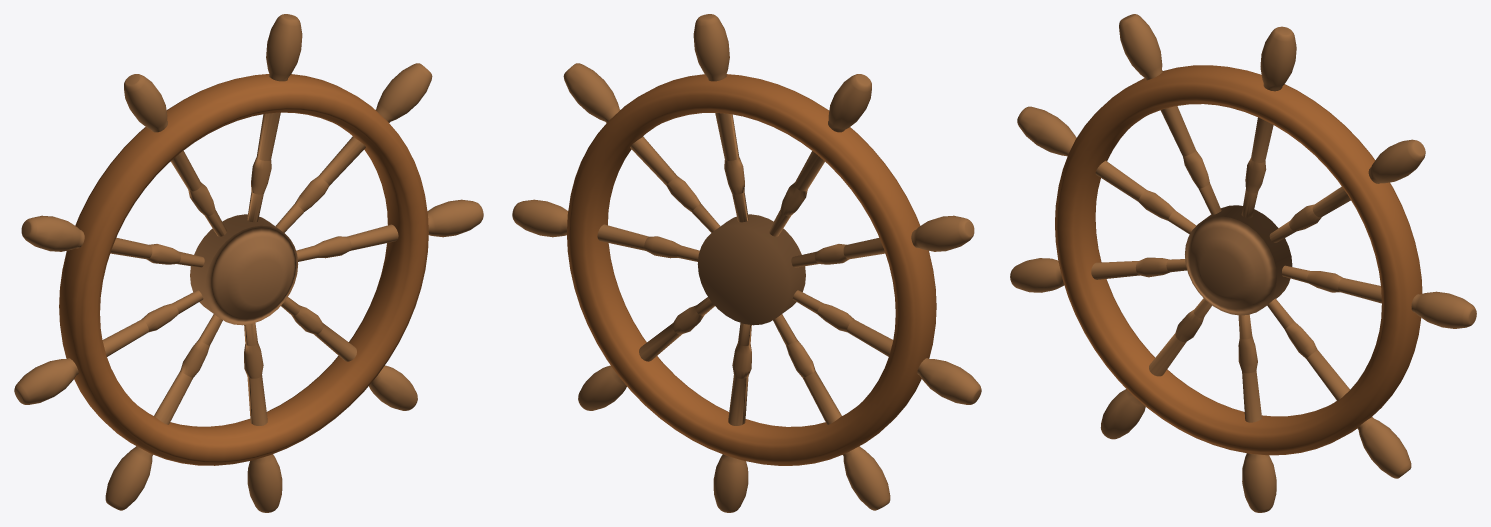
The model's file is Wheel.fbx.
The picture shows the model from 3 angles, left to right: view 1: azimuth 30°, elevation 25°; view 2: azimuth 150°, elevation 25°; view 3: azimuth 330°, elevation 25°; orthographic projection.
Parts seen in each view (by area): view 1: Circle, Cylinder, Cylinder.001; view 2: Circle, Cylinder, Cylinder.001; view 3: Circle, Cylinder, Cylinder.001.
Boxes of the visible parts, x1,y1,x2,y2 form: Circle: (59,74,428,465); Cylinder: (14,14,483,512); Cylinder.001: (190,214,298,325); Circle: (567,74,936,465); Cylinder: (512,14,981,512); Cylinder.001: (697,214,805,325); Circle: (1055,65,1422,455); Cylinder: (1010,14,1476,512); Cylinder.001: (1185,205,1292,315).
Size of the model in its own units: 256 by 258 by 27.71.
